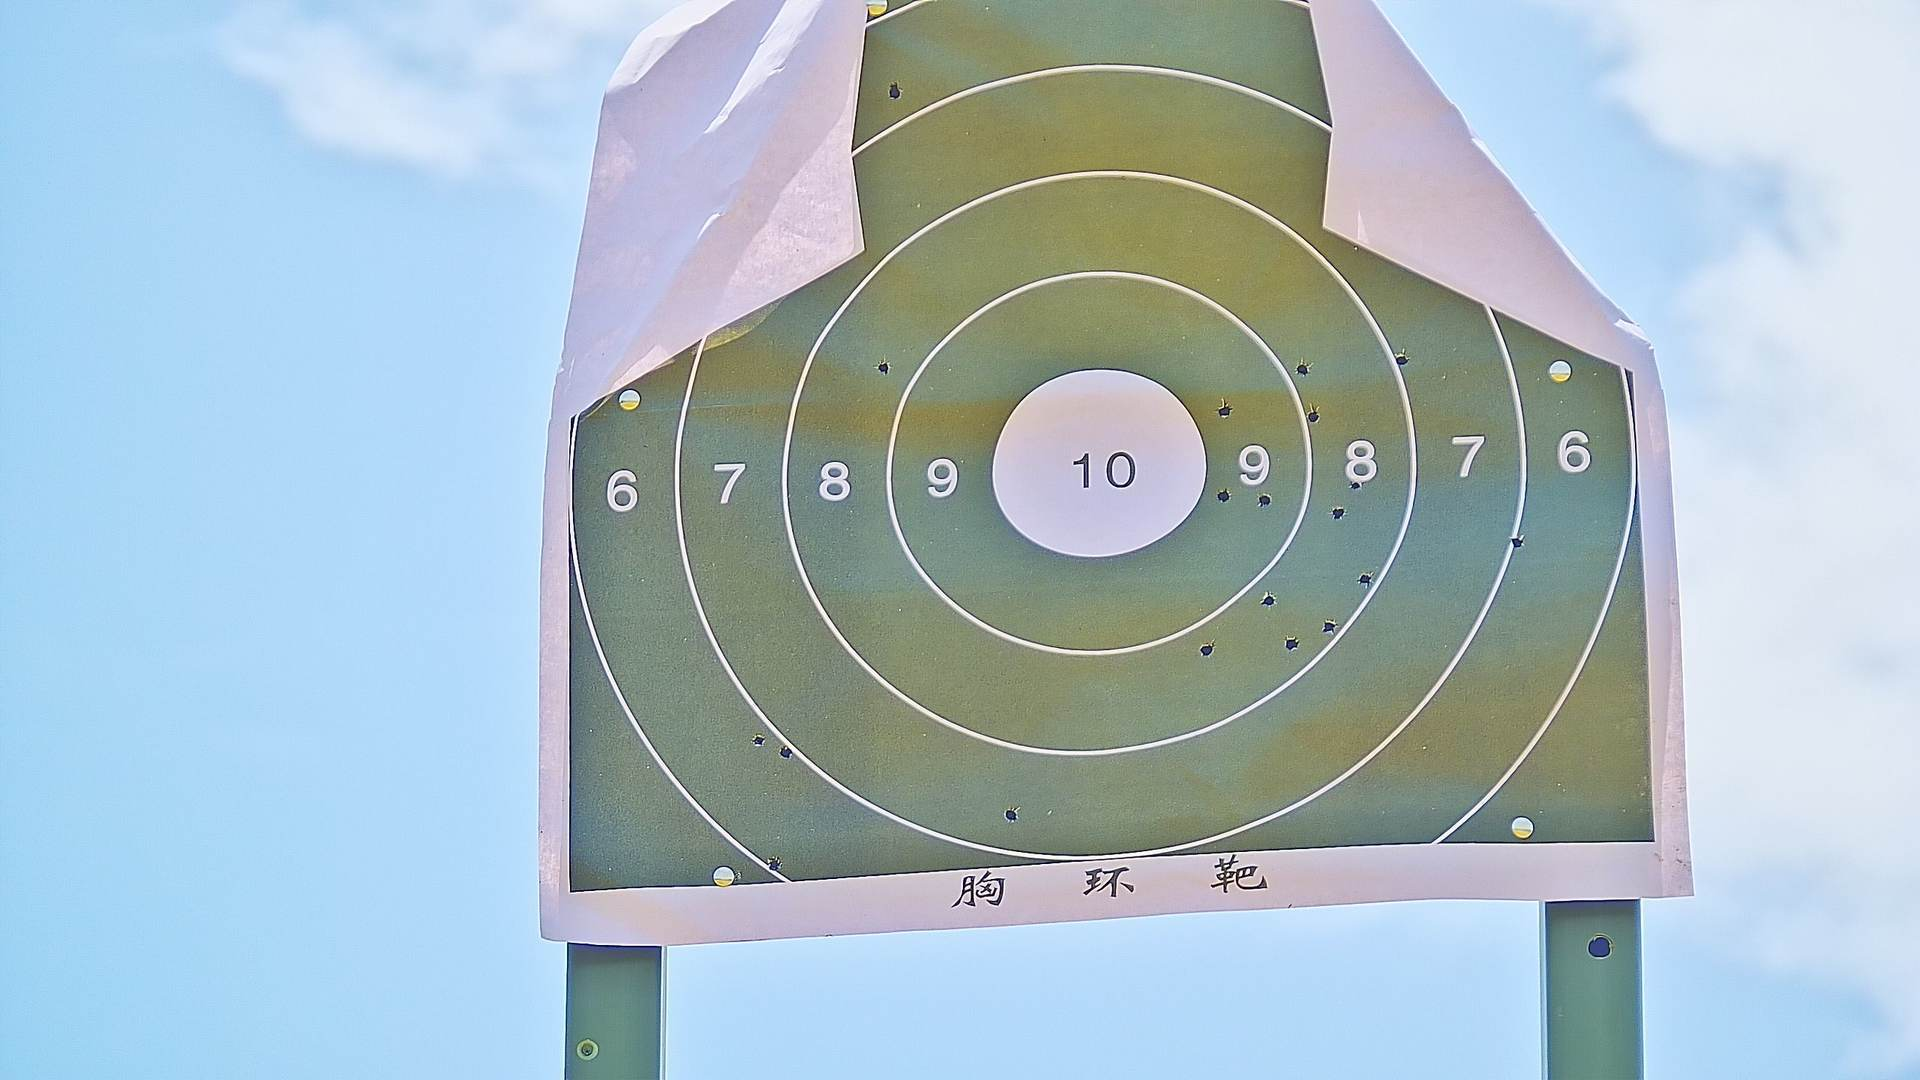hole: (765, 856, 781, 872), (1004, 807, 1019, 823), (1295, 363, 1311, 377), (1331, 505, 1346, 520), (1258, 492, 1273, 506), (1262, 592, 1275, 608), (887, 82, 899, 99), (1323, 618, 1335, 636), (1217, 405, 1232, 418), (1307, 409, 1320, 423), (1286, 636, 1298, 651), (779, 746, 793, 760), (1395, 353, 1410, 365), (876, 363, 891, 373), (1218, 489, 1230, 502), (1360, 574, 1373, 585), (1511, 535, 1523, 549), (1349, 480, 1364, 491), (1201, 644, 1213, 655), (753, 735, 764, 746)
kernel: (1096, 472, 1098, 473)
target: (567, 3, 1663, 890)
ten: (992, 364, 1208, 560)
